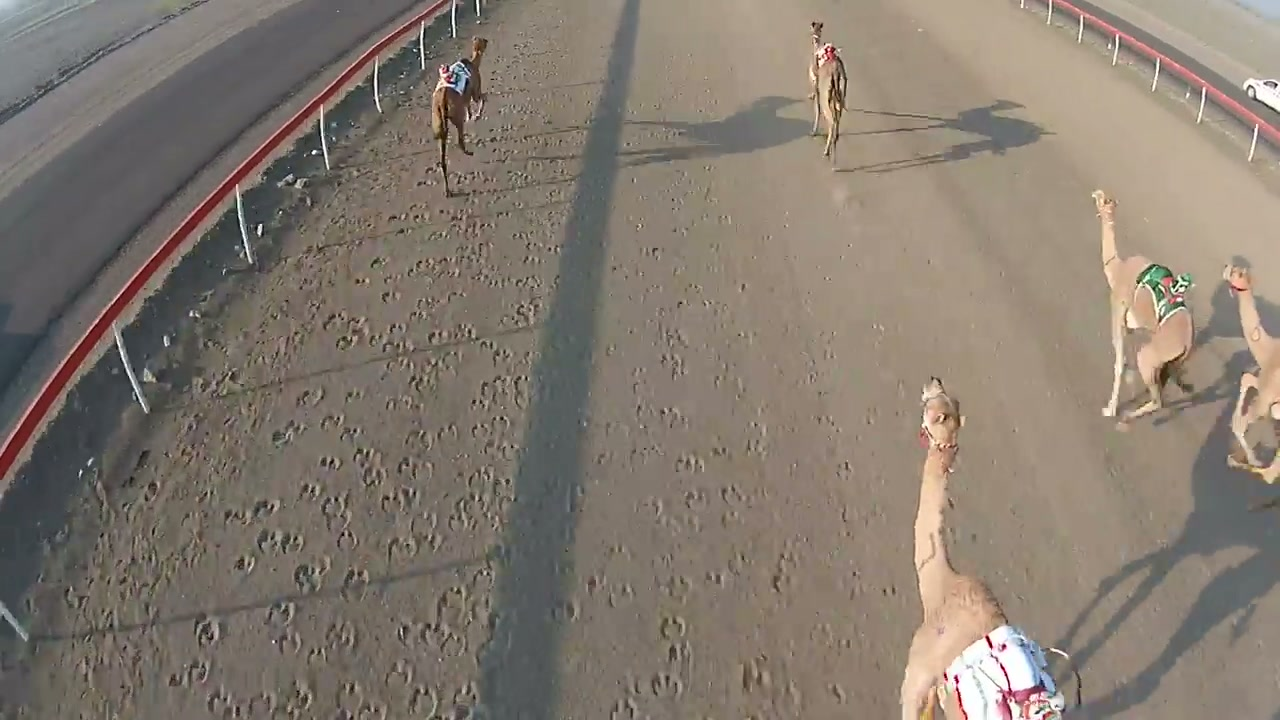animal_foot_print: (206, 164, 544, 719), (591, 162, 722, 719)
